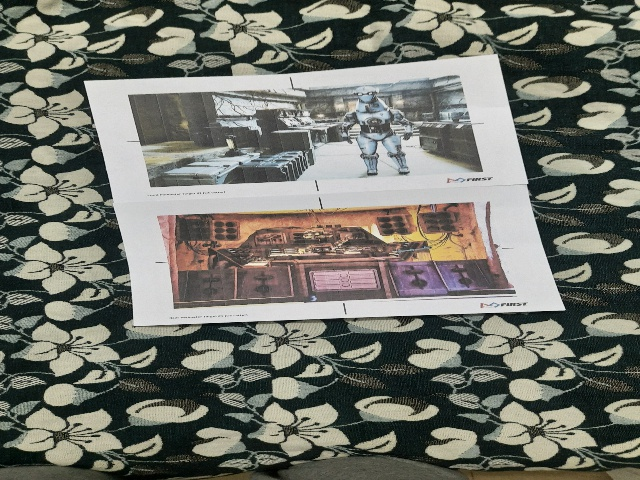fpt1: (122, 87, 512, 184)
rept1: (139, 210, 543, 313)
